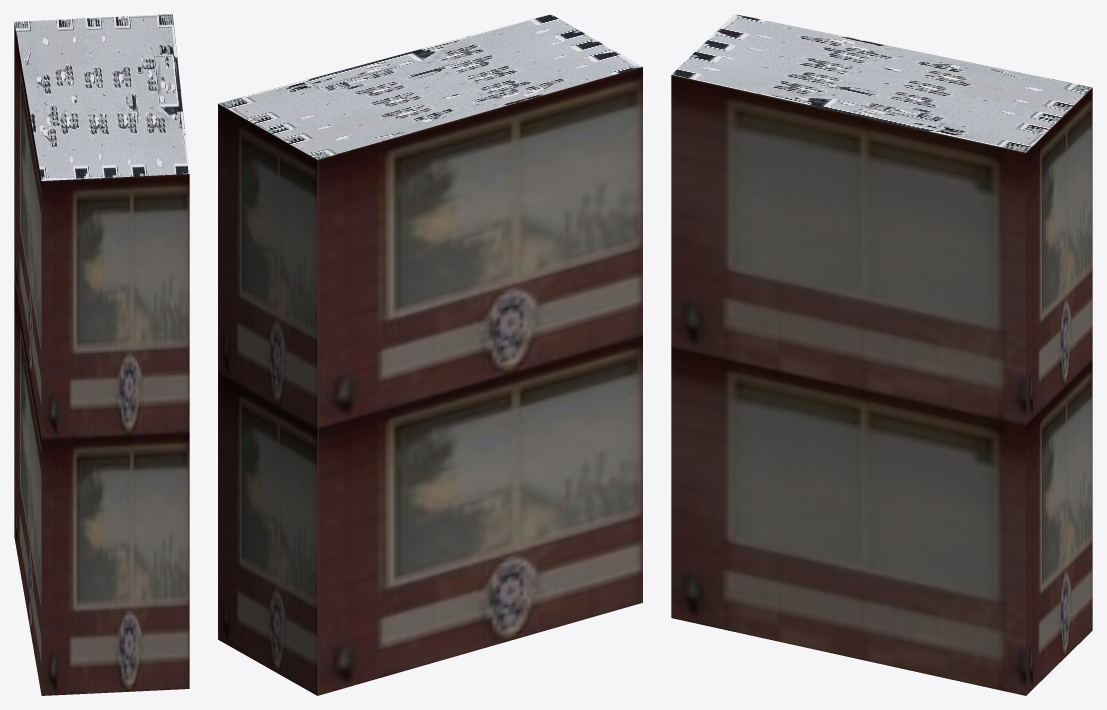
Rendered from ResTex__1207.fbx.
3 views of the same model, side by side, from view 1: azimuth 30°, elevation 25°; view 2: azimuth 150°, elevation 25°; view 3: azimuth 270°, elevation 25° (orthographic). The views are drawn at different scales.
Parts seen in each view (by area): view 1: CityEngineMaterial_13_m, CityEngineMaterial_4_m; view 2: CityEngineMaterial_13_m, CityEngineMaterial_4_m; view 3: CityEngineMaterial_13_m, CityEngineMaterial_4_m.
Boxes of the visible parts, bbox=[...] form: CityEngineMaterial_13_m: bbox=[14, 23, 189, 695]; CityEngineMaterial_4_m: bbox=[14, 14, 189, 180]; CityEngineMaterial_13_m: bbox=[218, 67, 642, 695]; CityEngineMaterial_4_m: bbox=[218, 14, 642, 159]; CityEngineMaterial_13_m: bbox=[671, 75, 1092, 695]; CityEngineMaterial_4_m: bbox=[671, 14, 1092, 152].
Bounding box in the file's own units: 3.29 × 6 × 4.22.
Materials: 2 (2 with a texture image).
